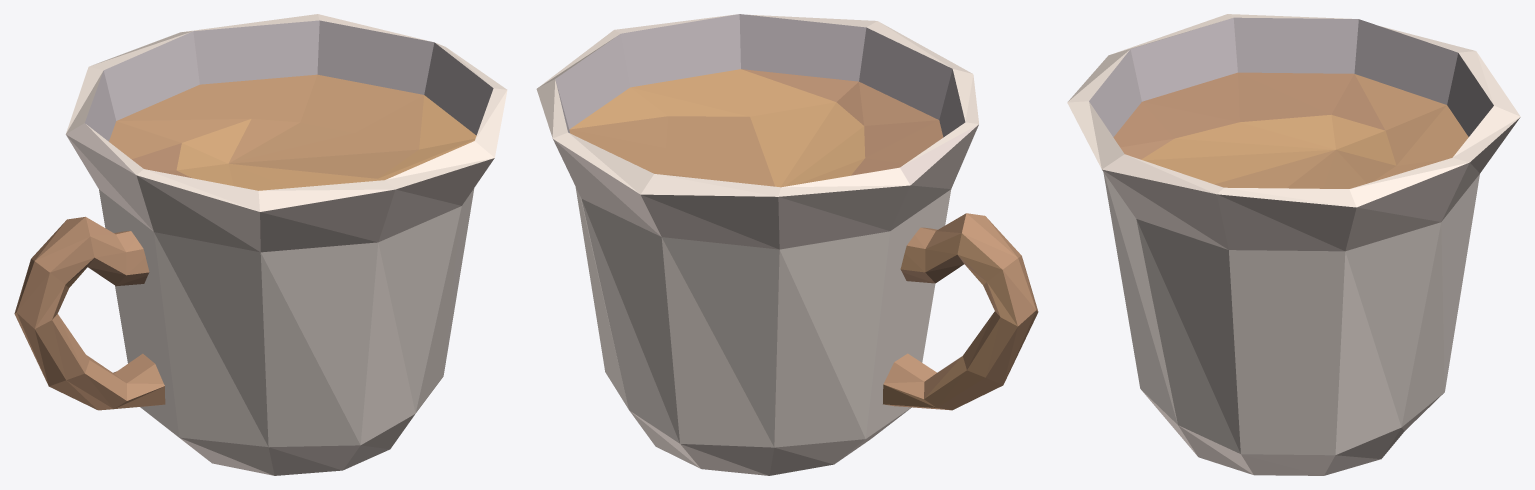
File: cup_upstairs_customer.fbx
The picture shows the model from 3 angles, left to right: view 1: azimuth 30°, elevation 25°; view 2: azimuth 150°, elevation 25°; view 3: azimuth 270°, elevation 25°; orthographic projection.
Parts seen in each view (by area): view 1: cup_upstairs; view 2: cup_upstairs; view 3: cup_upstairs.
Boxes of the visible parts, <box> form: cup_upstairs: <box>14,14,507,475</box>; cup_upstairs: <box>536,14,1038,475</box>; cup_upstairs: <box>1067,14,1520,475</box>.
Bounding box in the file's own units: 8.95 × 6 × 7.55.
